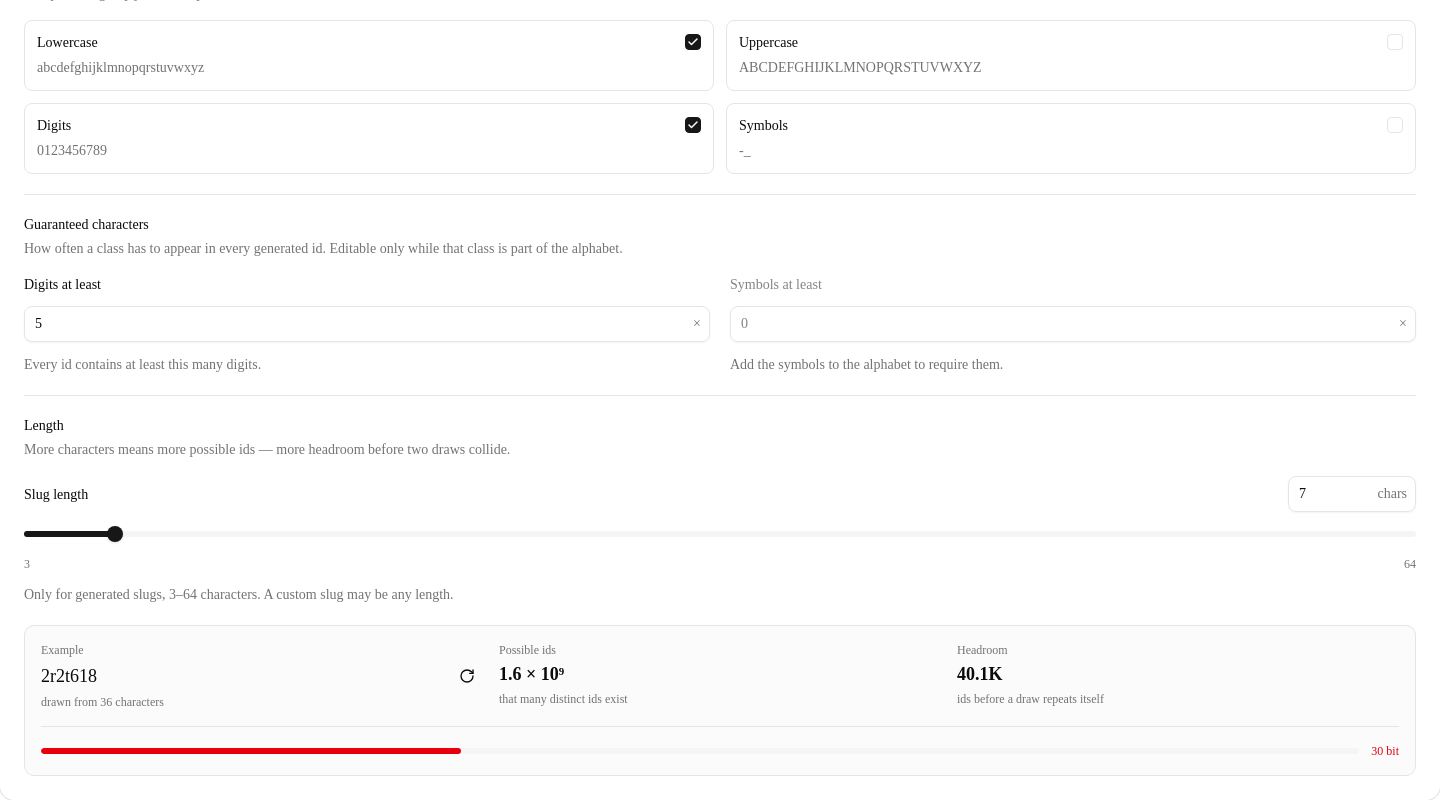
Scenario: ShortenerSettings › refuses a slug shorter than the guaranteed characters
The width and height of the screenshot is (1440, 800).
(page scrolled)
Replace the text in the number field labelled "Slug length" with "4": (1333, 494) top-left (1289, 476), bottom-right (1378, 512)
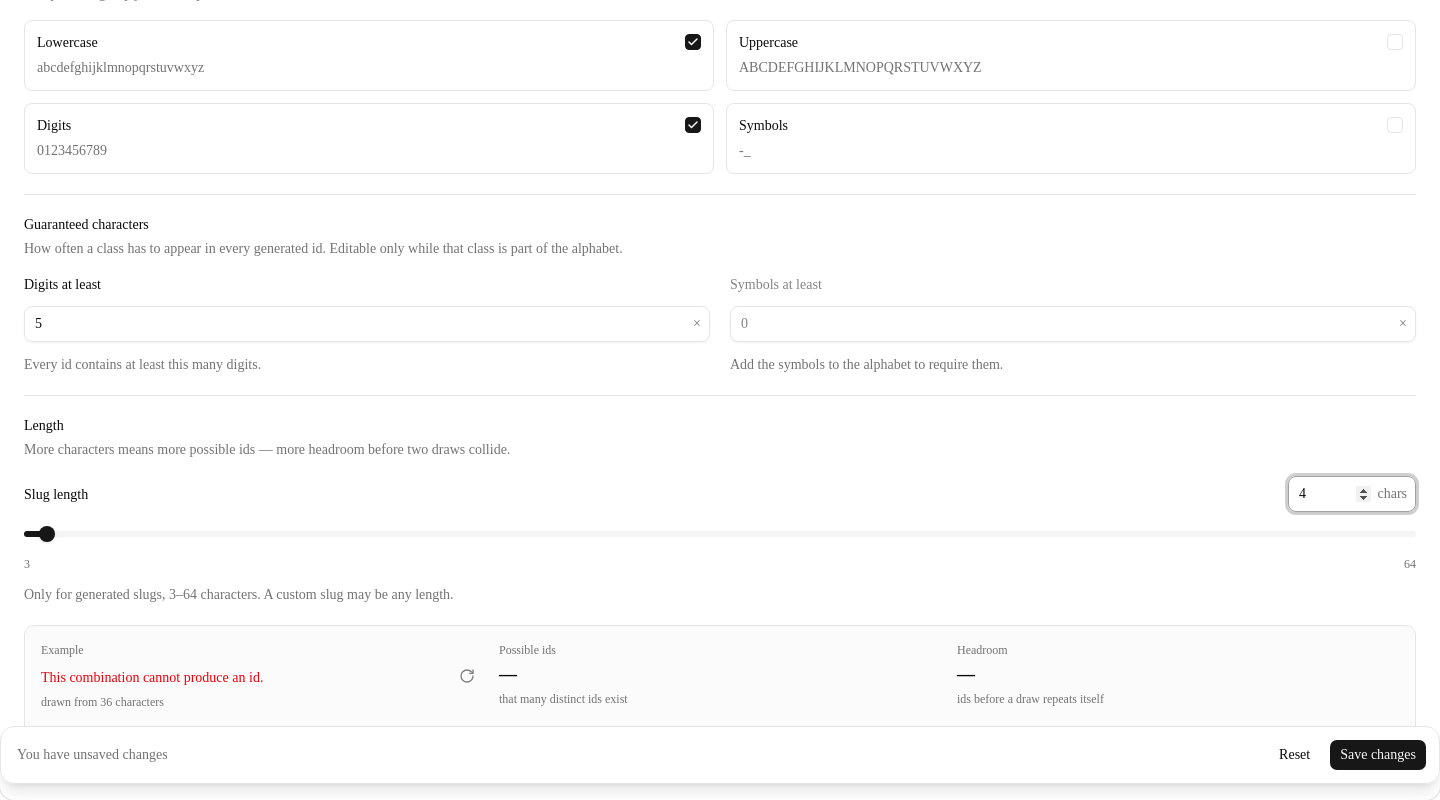
Click the button "Save changes": (1378, 755) top-left (1329, 739), bottom-right (1427, 771)
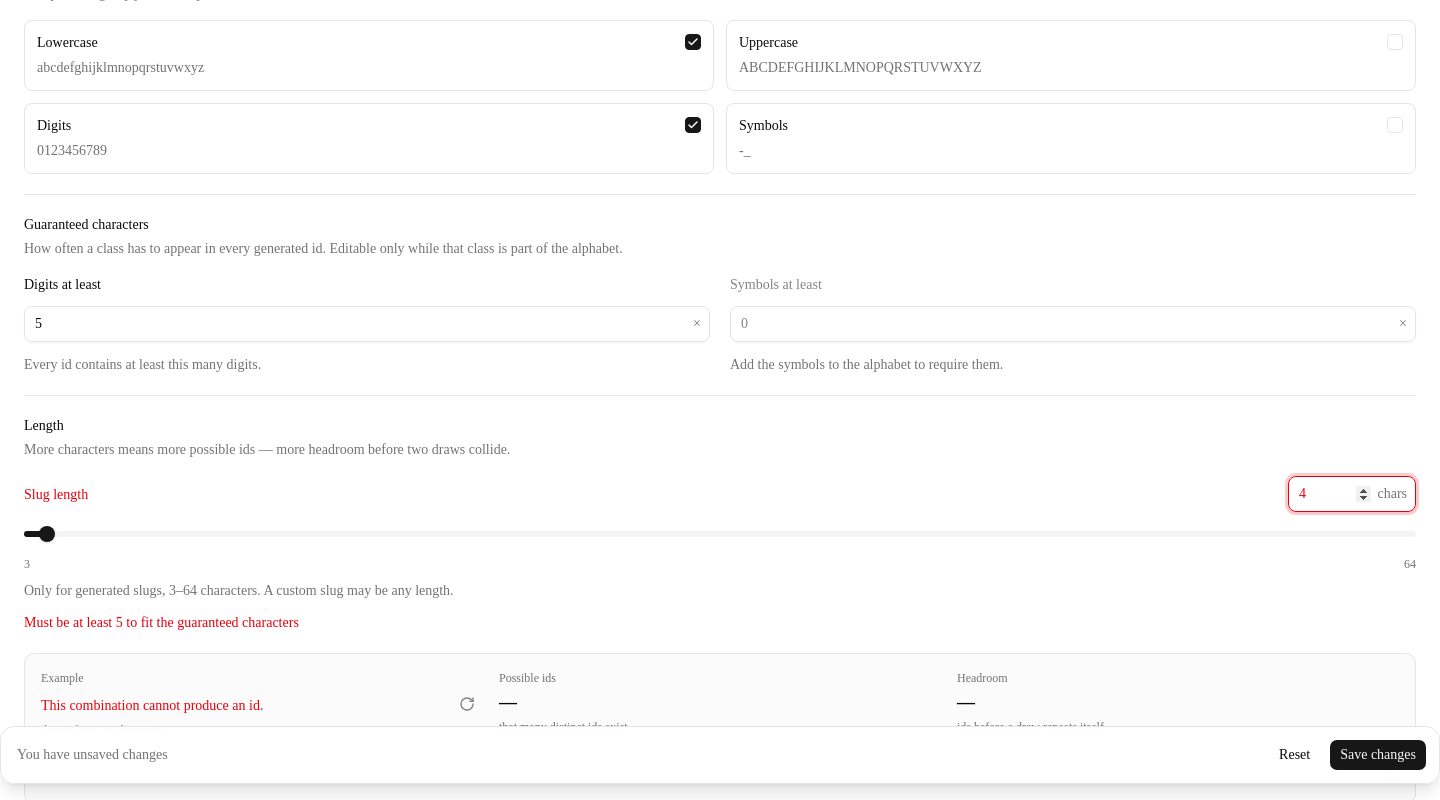
expect the text "Must be at least 5 to fit the guaranteed characters" is shown: met, box top-left (24, 615), bottom-right (299, 630)
